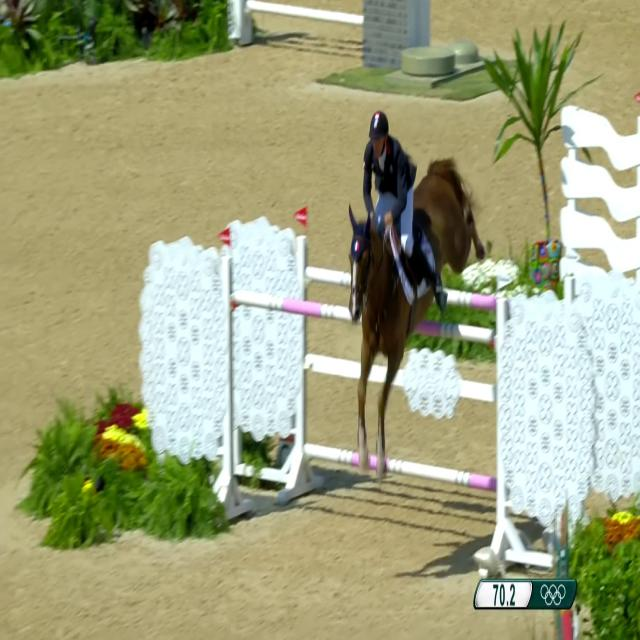Horse Jumping: (335, 80, 486, 521)
